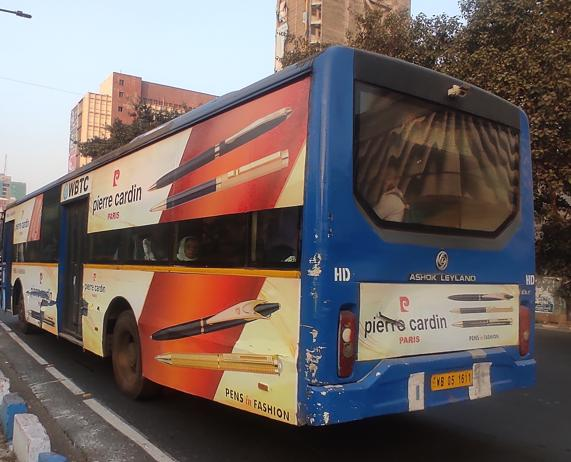Bus: (4, 47, 539, 434)
